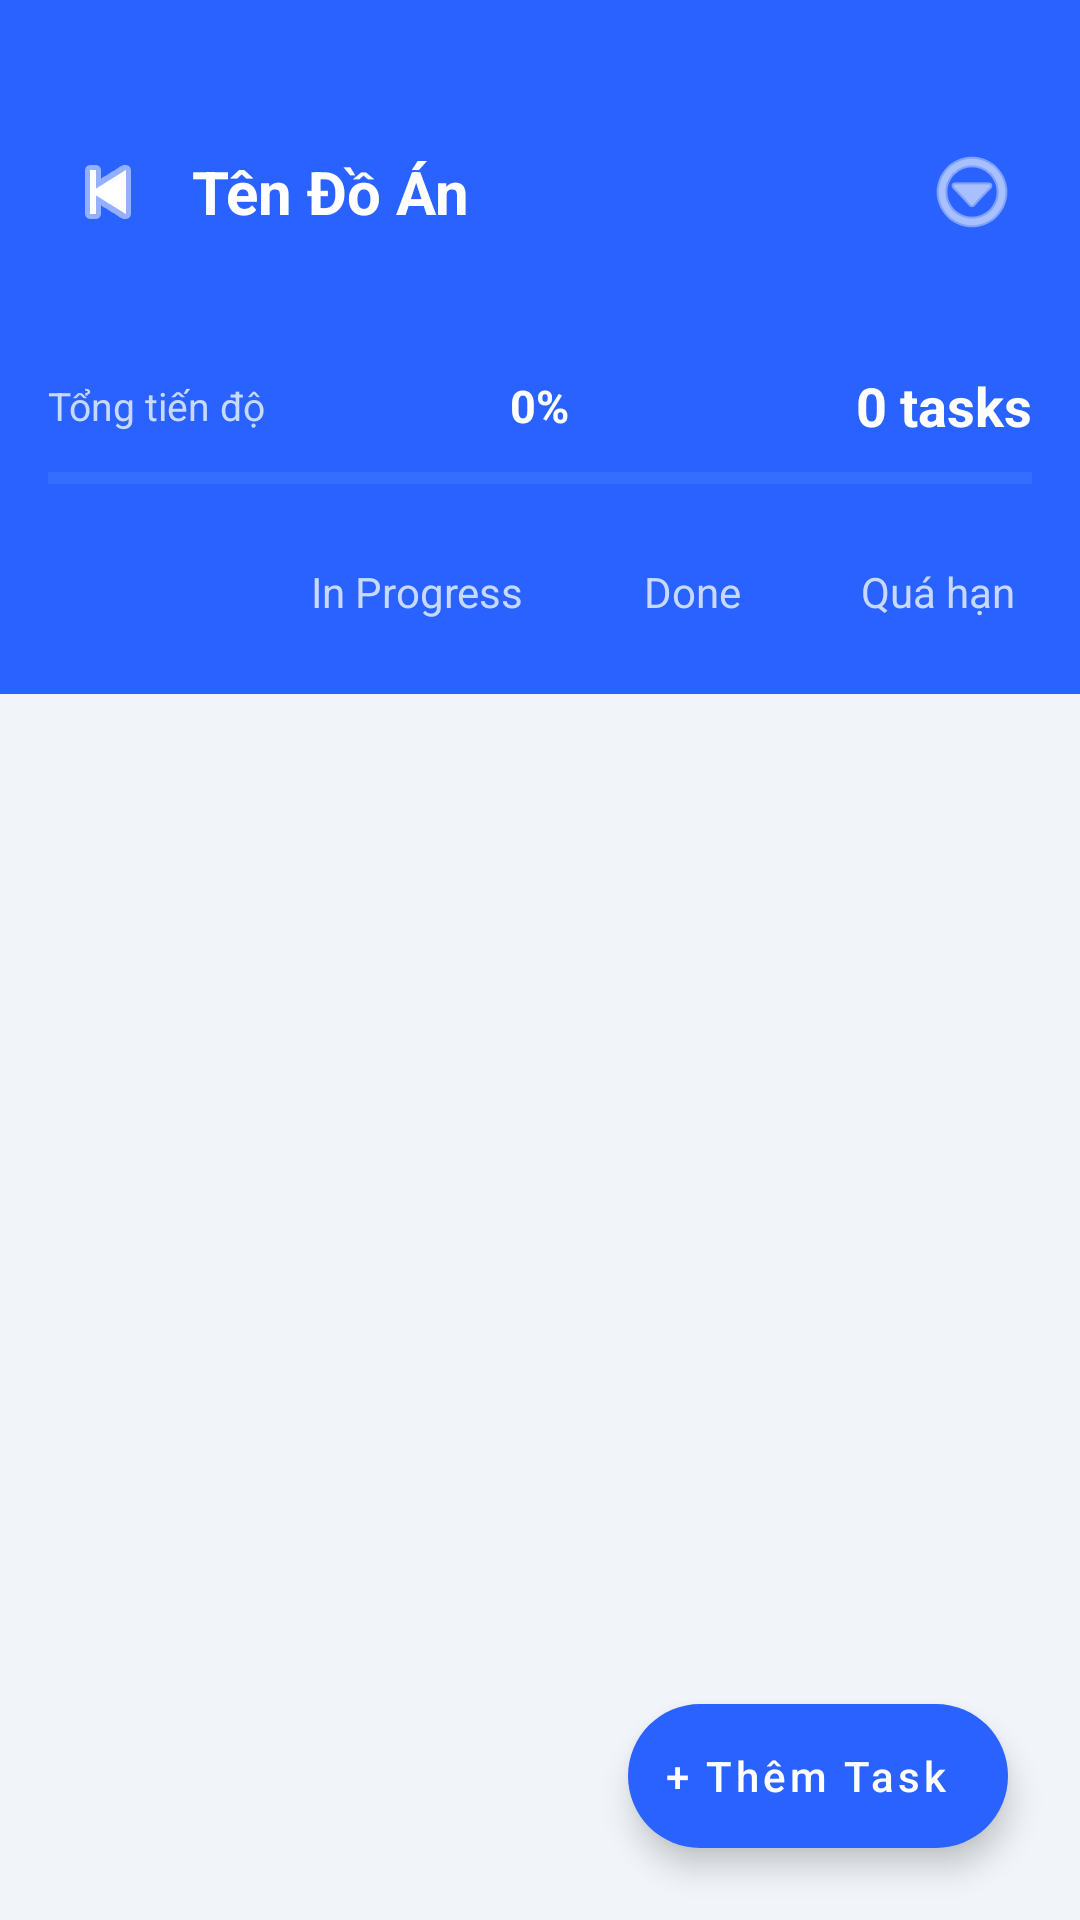

Locate icon controls on the screen. Image size 1080×1920, boxes as [left=x1, top=y1, right=x2, bottom=y2].
Quay lại: [left=85, top=165, right=131, bottom=219]
Tùy chọn: [left=936, top=157, right=1008, bottom=228]
